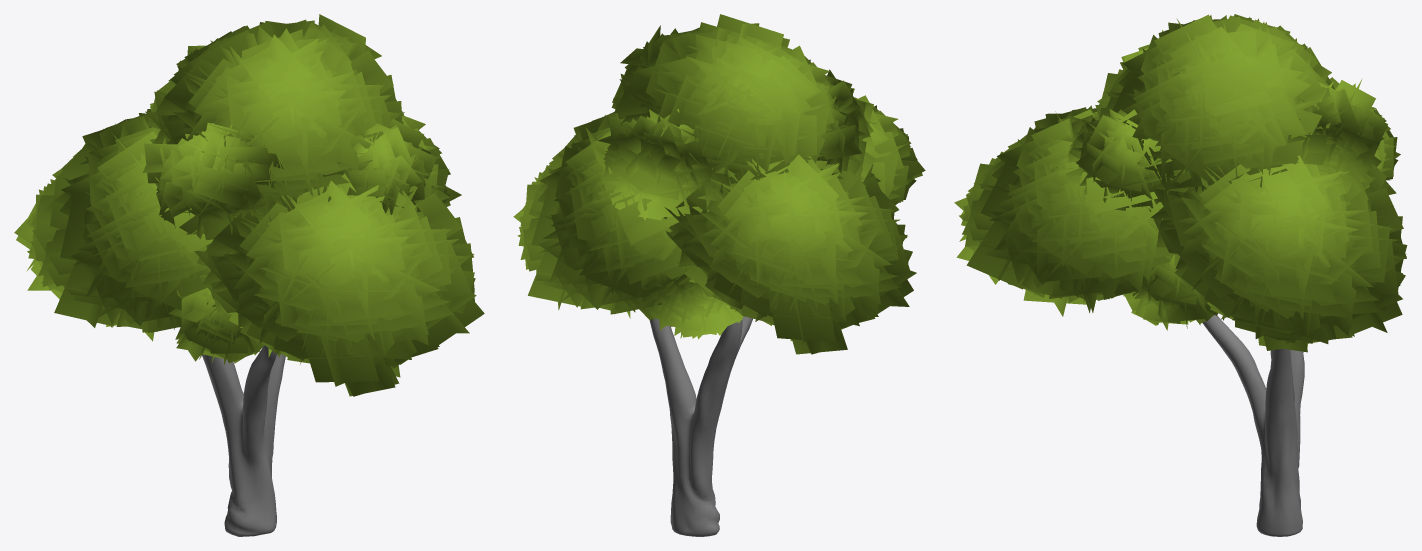
File: SM_tree_special_02.fbx
3 views of the same model, side by side, from view 1: azimuth 30°, elevation 25°; view 2: azimuth 150°, elevation 25°; view 3: azimuth 270°, elevation 25° (orthographic). The views are drawn at different scales.
Visible parts, largest first — view 1: Group63245; view 2: Group63245; view 3: Group63245.
Boxes of the visible parts, left/top/right/bottom form: Group63245: left=14, top=14, right=484, bottom=536; Group63245: left=513, top=14, right=925, bottom=536; Group63245: left=954, top=14, right=1407, bottom=536.
Bounding box in the file's own units: 228 × 280 × 227.
